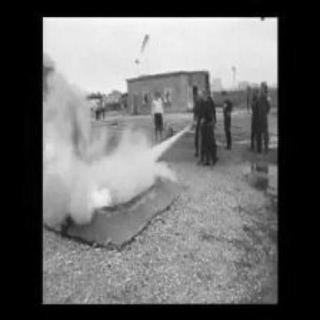Fire: (42, 90, 74, 162), (84, 180, 114, 208)
